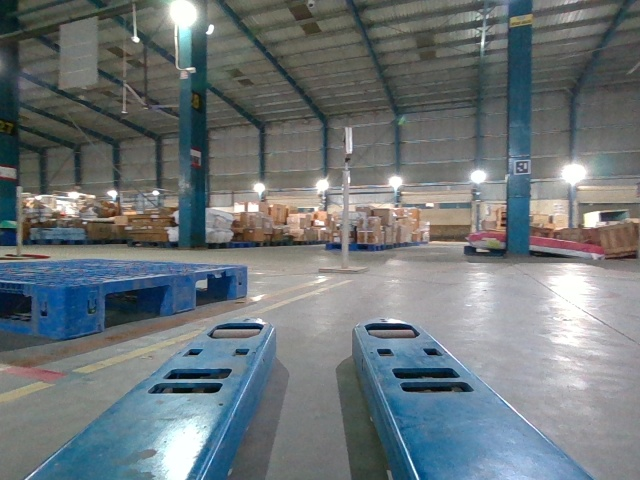block: (31, 283, 107, 339), (170, 270, 199, 314), (231, 263, 250, 298)
front: (63, 262, 247, 337)
hole pallet: (104, 278, 175, 326), (191, 272, 239, 308)
